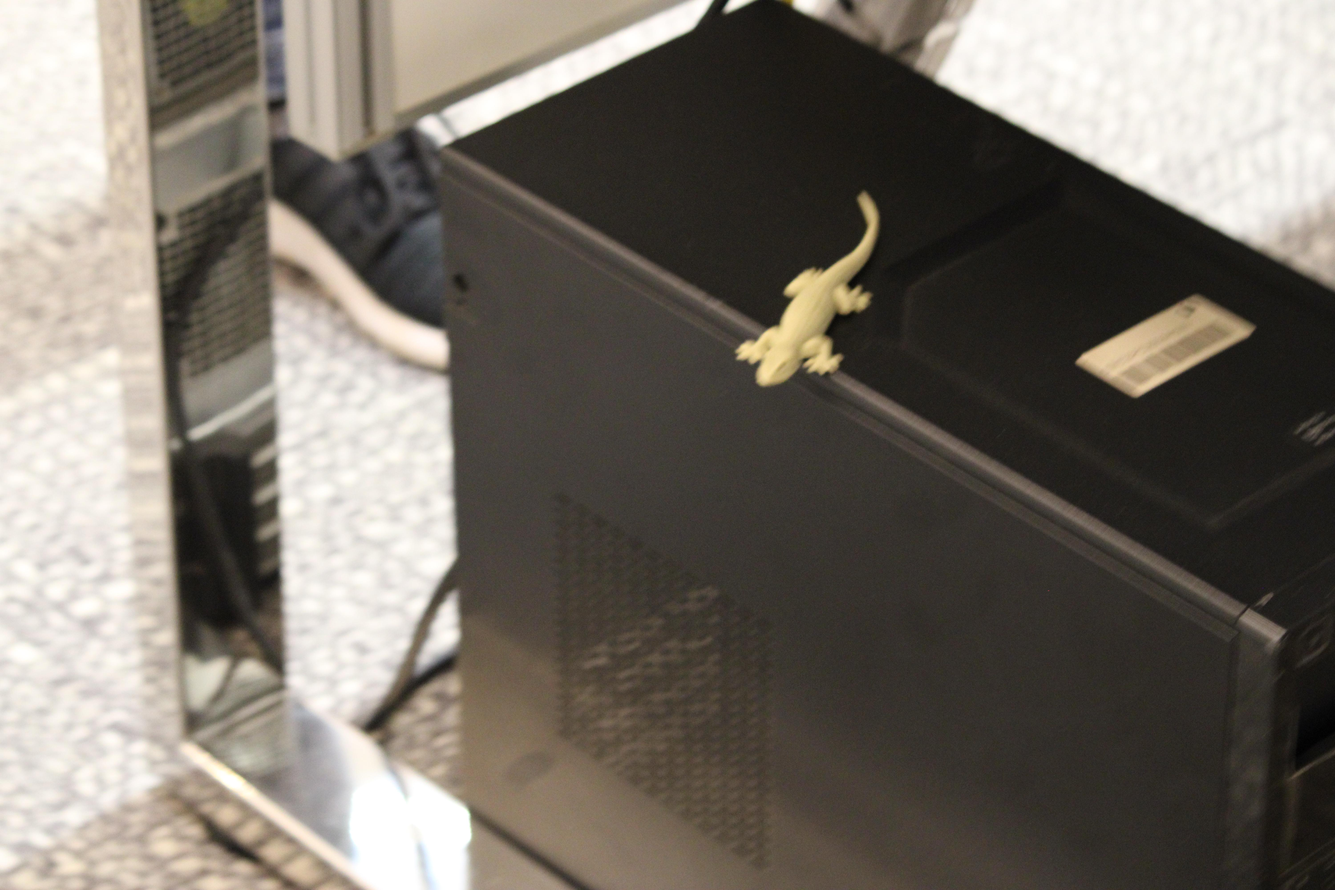lizard: (724, 185, 886, 394)
